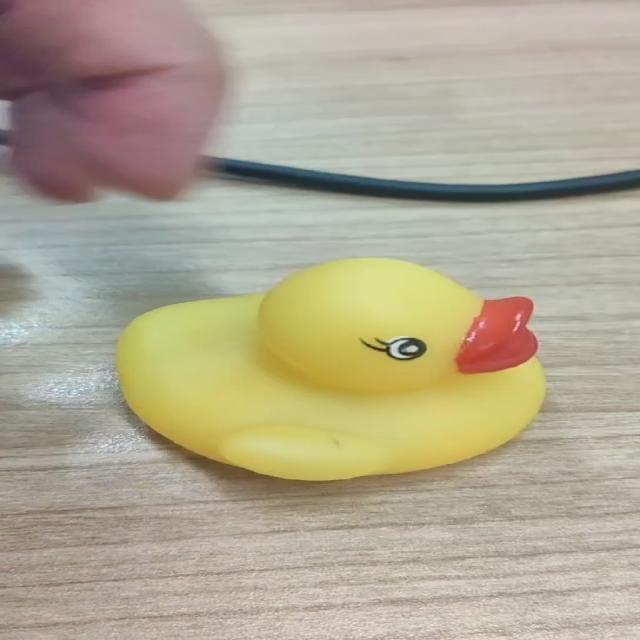rubber-duck: (116, 257, 543, 478)
